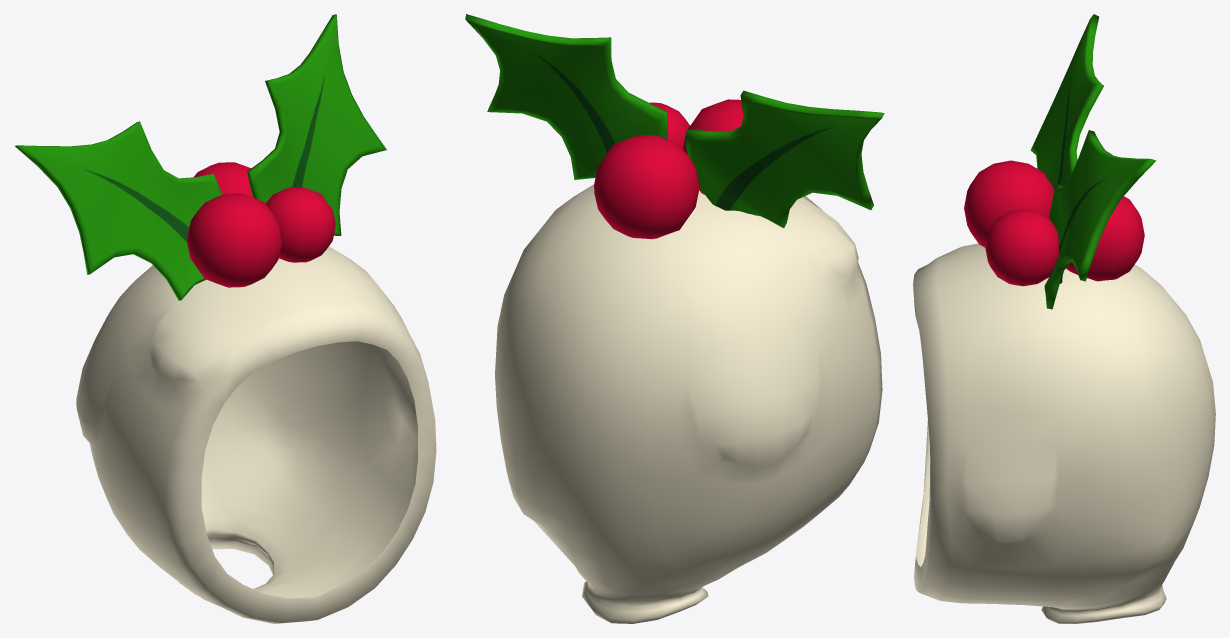
File: 38霍利帽.fbx
The picture shows the model from 3 angles, left to right: view 1: azimuth 30°, elevation 25°; view 2: azimuth 150°, elevation 25°; view 3: azimuth 270°, elevation 25°; orthographic projection. The views are drawn at different scales.
Visible parts, largest first — view 1: 38霍利帽; view 2: 38霍利帽; view 3: 38霍利帽.
Boxes of the visible parts, x1,y1,x2,y2 form: 38霍利帽: [15, 14, 436, 623]; 38霍利帽: [465, 14, 884, 623]; 38霍利帽: [913, 14, 1215, 623].
Bounding box in the file's own units: 0.5081 × 0.6951 × 0.366.
